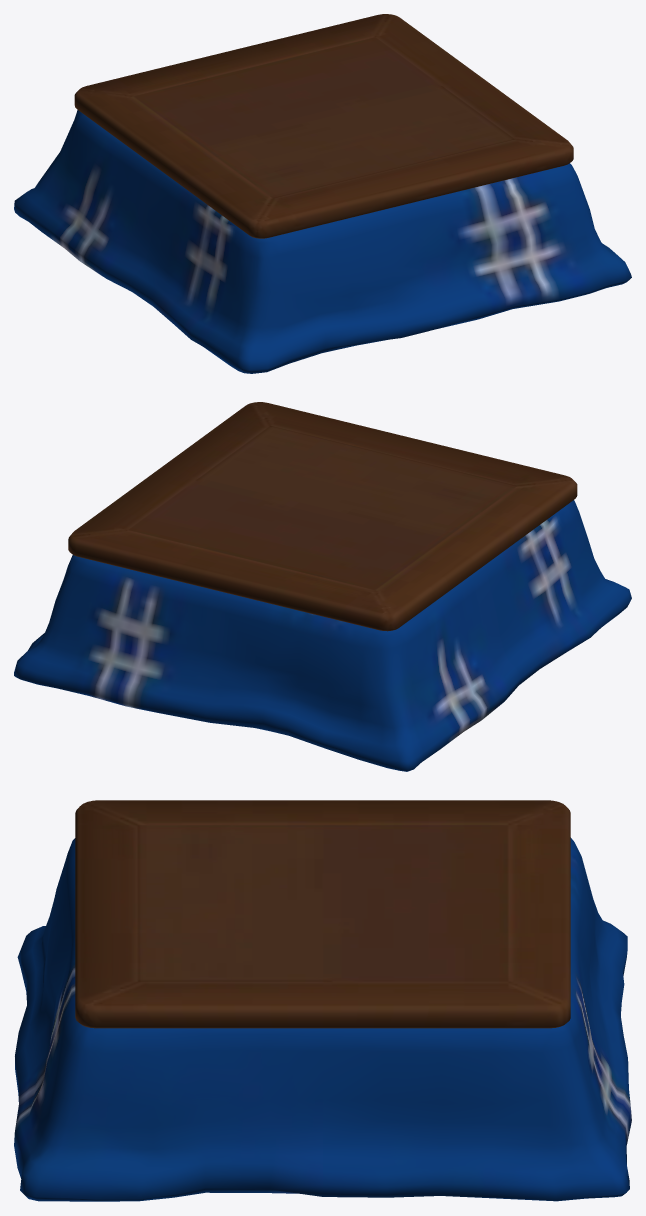
3 renders of one model, top to bottom at view 1: azimuth 30°, elevation 25°; view 2: azimuth 150°, elevation 25°; view 3: azimuth 270°, elevation 25°, orthographic. The views are drawn at different scales.
Bounding box in the file's own units: 19.9 × 6.18 × 19.98.
2 materials, 2 textured.
